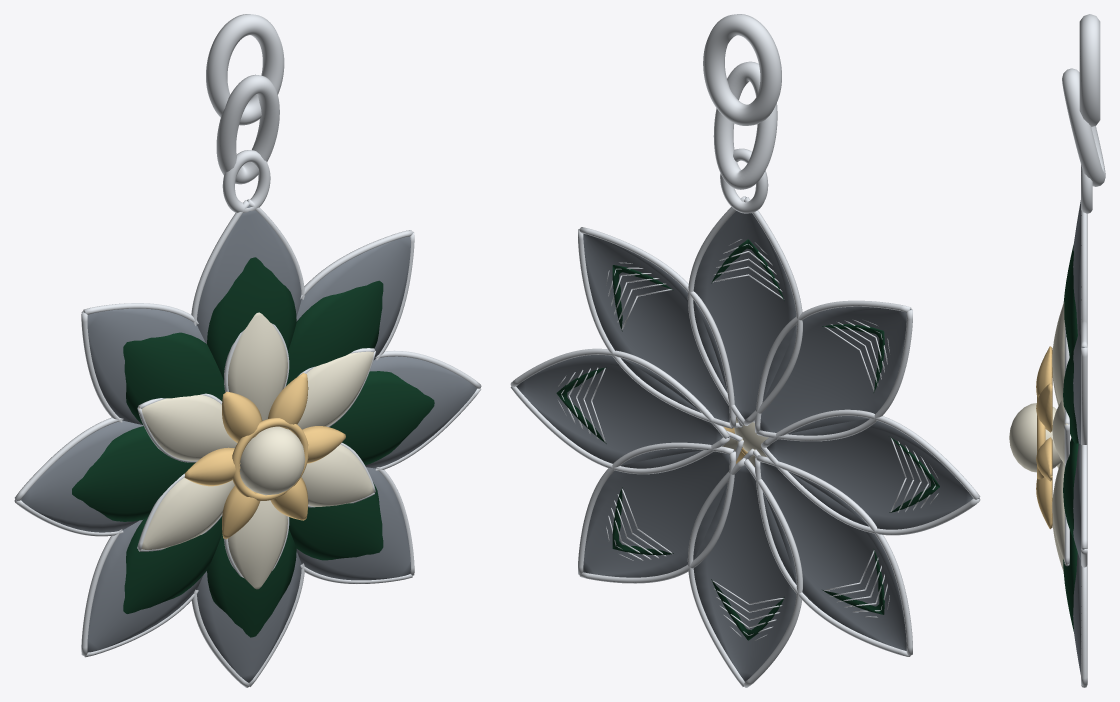
File: emoria-sen.glb
The picture shows the model from 3 angles, left to right: view 1: azimuth 30°, elevation 25°; view 2: azimuth 150°, elevation 25°; view 3: azimuth 270°, elevation 25°; orthographic projection.
Visible parts, largest first — view 1: Jade enamel, Engraved silver, Pearl, Polished silver, Warm gold; view 2: Engraved silver, Polished silver, Jade enamel, Pearl; view 3: Polished silver, Pearl, Jade enamel, Engraved silver, Warm gold.
Part boxes in pixels (box(x1,y1,x2,y2)): Jade enamel: box(72, 257, 434, 637); Engraved silver: box(17, 201, 476, 682); Pearl: box(139, 312, 373, 589); Polished silver: box(14, 14, 481, 687); Warm gold: box(184, 373, 345, 539); Engraved silver: box(516, 197, 979, 681); Polished silver: box(510, 14, 980, 687); Jade enamel: box(556, 239, 939, 640); Pearl: box(722, 417, 768, 466); Polished silver: box(1062, 14, 1105, 687); Pearl: box(1009, 302, 1068, 571); Jade enamel: box(1063, 245, 1078, 631); Engraved silver: box(1073, 200, 1084, 674); Warm gold: box(1036, 346, 1052, 529).
Size of the model in its own units: 0.0262 by 0.036 by 0.00477.
